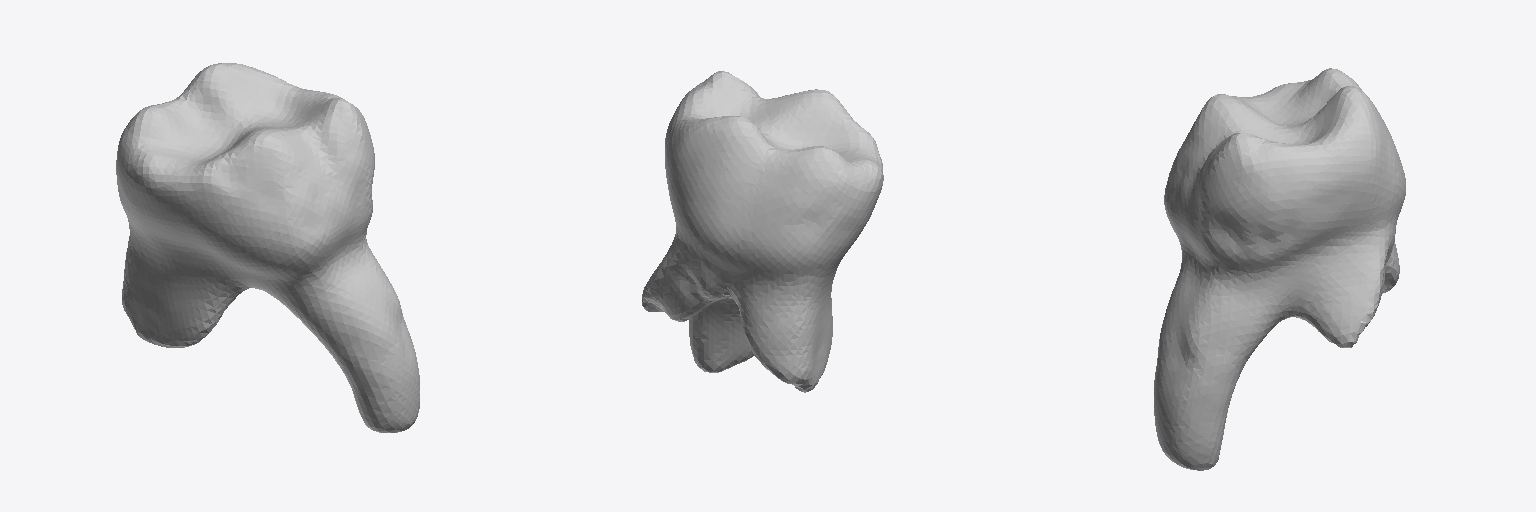
The model's file is tooth2.obj.
3 views of the same model, side by side, from view 1: azimuth 30°, elevation 25°; view 2: azimuth 150°, elevation 25°; view 3: azimuth 270°, elevation 25° (orthographic).
Parts seen in each view (by area): view 1: tooth; view 2: tooth; view 3: tooth.
Boxes of the visible parts, x1=… form: tooth: x1=116, y1=63, x2=419, y2=432; tooth: x1=642, y1=71, x2=883, y2=392; tooth: x1=1154, y1=68, x2=1405, y2=470.
Bounding box in the file's own units: 1.66 × 2.26 × 1.56.